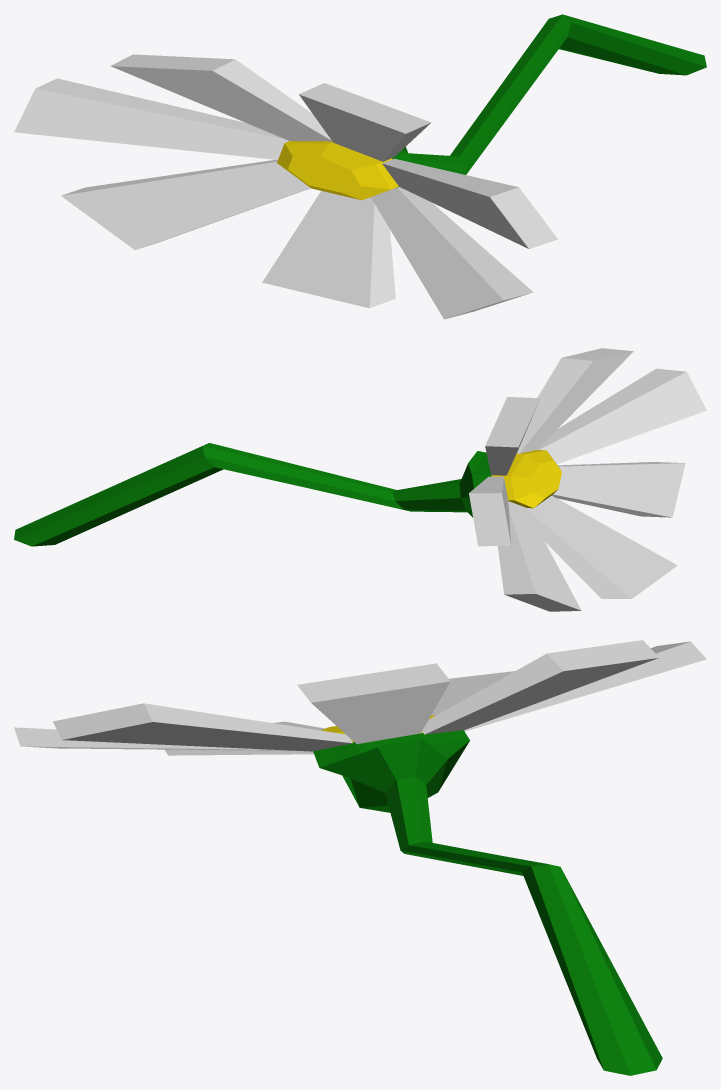
File: FlowerSteppedOnWhite.fbx
3 views of the same model, one above another, from view 1: azimuth 30°, elevation 25°; view 2: azimuth 150°, elevation 25°; view 3: azimuth 270°, elevation 25° (orthographic). The views are drawn at different scales.
Visible parts, largest first — view 1: flower; view 2: flower; view 3: flower.
Part boxes in pixels (x1,y1,x2,y2): flower: [14, 14, 706, 319]; flower: [14, 348, 706, 611]; flower: [14, 640, 706, 1075].
Size of the model in its own units: 21.61 by 4.55 by 18.1.
